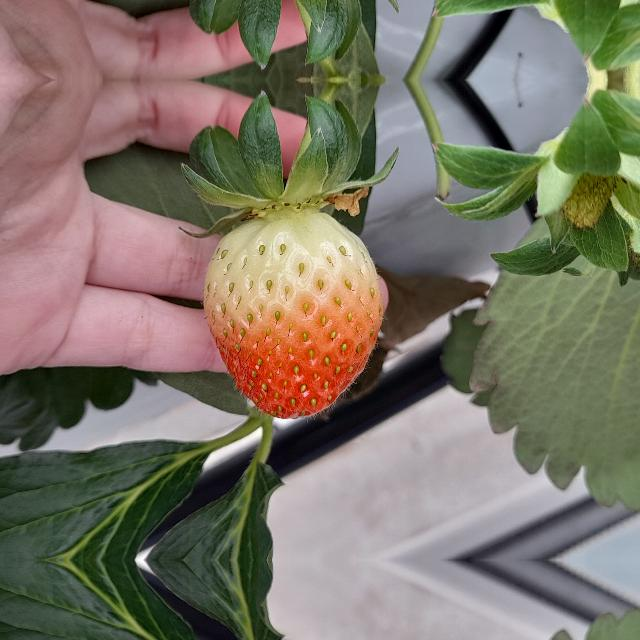Health_75: (203, 212, 383, 418)
